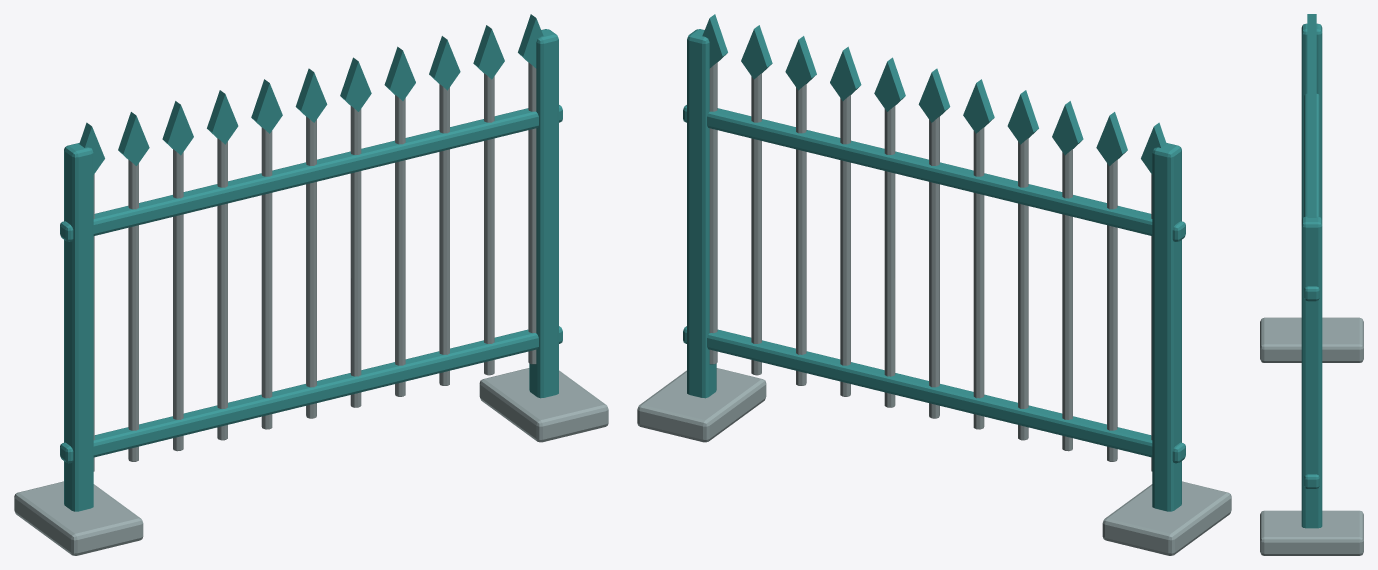
File: S065_iron_fence.glb
The picture shows the model from 3 angles, left to right: view 1: azimuth 30°, elevation 25°; view 2: azimuth 150°, elevation 25°; view 3: azimuth 270°, elevation 25°; orthographic projection. The views are drawn at different scales.
Visible parts, largest first — view 1: iron_post, iron_crossrail, iron_crossrail.001, iron_post.001, fence_foot, fence_foot.001, fence_bar.004, fence_bar.006, fence_bar.005, fence_bar.007, fence_bar.002, fence_bar.009 (+14 smaller); view 2: iron_post, iron_crossrail, iron_crossrail.001, iron_post.001, fence_foot, fence_foot.001, fence_bar.004, fence_bar.006, fence_bar.005, fence_bar.007, fence_bar.002, fence_bar.009 (+14 smaller); view 3: iron_post.001, fence_foot.001, fence_foot, iron_post, iron_crossrail.001, iron_crossrail, foam_spearhead.002, foam_spearhead.010, foam_spearhead, foam_spearhead.001, foam_spearhead.003, foam_spearhead.004 (+5 smaller).
Part boxes in pixels (box(x1,y1,x2,y2)): iron_post: box(64, 143, 93, 511); iron_crossrail: box(60, 326, 562, 463); iron_crossrail.001: box(60, 105, 562, 241); iron_post.001: box(529, 29, 558, 398); fence_foot: box(14, 481, 143, 555); fence_foot.001: box(479, 368, 608, 442); fence_bar.004: box(261, 127, 272, 429); fence_bar.006: box(350, 106, 361, 407); fence_bar.005: box(306, 116, 316, 418); fence_bar.007: box(395, 95, 405, 396); fence_bar.002: box(173, 149, 183, 451); fence_bar.009: box(484, 73, 494, 375); iron_post: box(1152, 143, 1181, 511); iron_crossrail: box(683, 326, 1185, 463); iron_crossrail.001: box(683, 105, 1185, 241); iron_post.001: box(687, 29, 716, 398); fence_foot: box(1102, 481, 1231, 555); fence_foot.001: box(637, 368, 766, 442); fence_bar.004: box(973, 127, 984, 429); fence_bar.006: box(884, 106, 895, 407); fence_bar.005: box(929, 116, 939, 418); fence_bar.007: box(840, 95, 850, 396); fence_bar.002: box(1062, 149, 1072, 451); fence_bar.009: box(751, 73, 761, 375); iron_post.001: box(1301, 216, 1322, 528); fence_foot.001: box(1260, 510, 1363, 555); fence_foot: box(1260, 317, 1363, 362); iron_post: box(1301, 23, 1322, 219); iron_crossrail.001: box(1304, 94, 1319, 301); iron_crossrail: box(1304, 474, 1319, 488); foam_spearhead.002: box(1307, 50, 1316, 69); foam_spearhead.010: box(1307, 198, 1316, 217); foam_spearhead: box(1307, 14, 1316, 32); foam_spearhead.001: box(1307, 32, 1316, 50); foam_spearhead.003: box(1307, 69, 1316, 87); foam_spearhead.004: box(1307, 87, 1316, 105).
Size of the model in its own units: 2.54 by 1.81 by 0.5.
